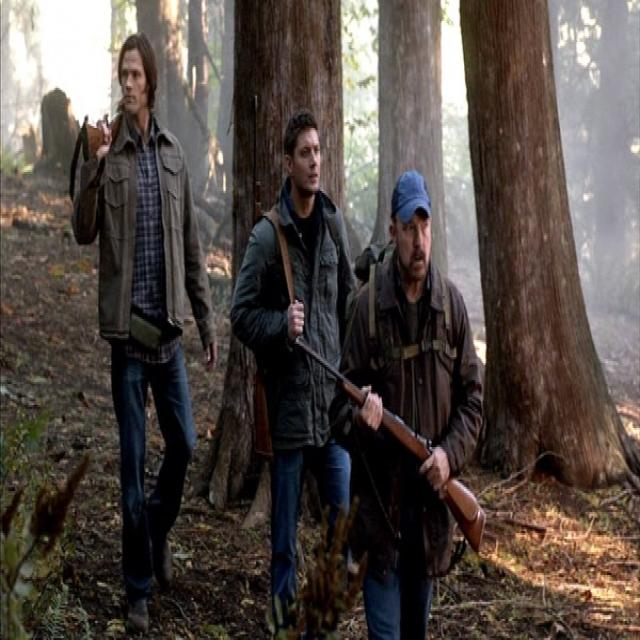rifle: (292, 336, 487, 559)
